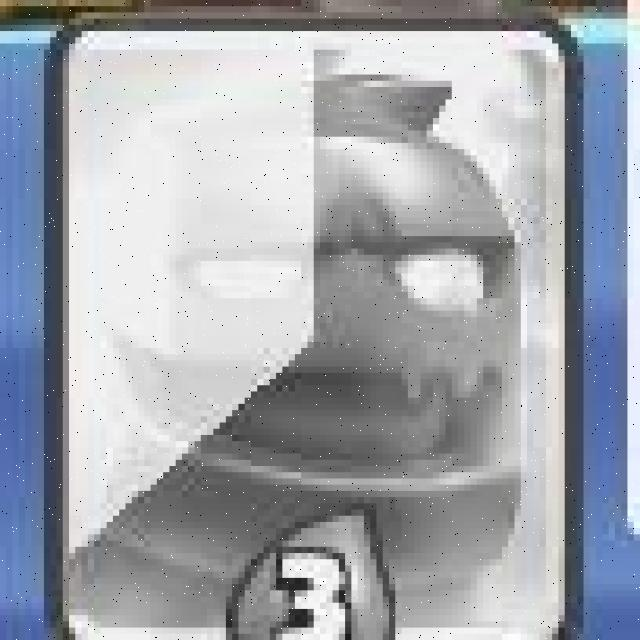Elixir_Golem: (52, 19, 580, 640)
